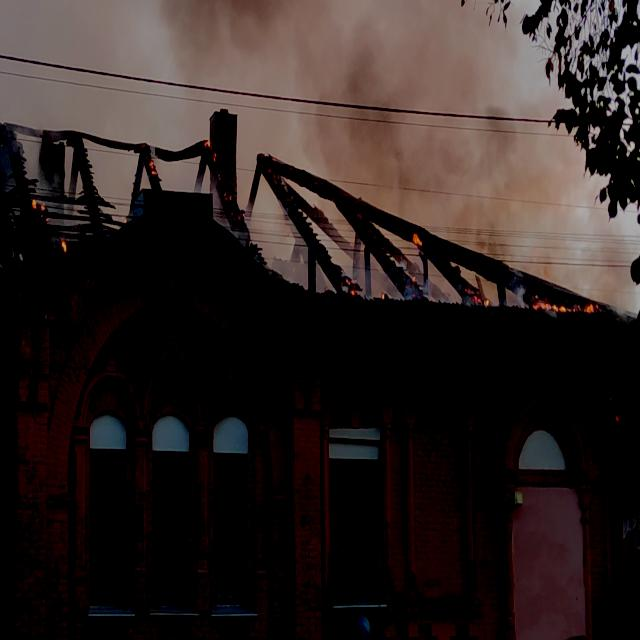fire: (522, 283, 604, 333), (28, 196, 70, 261), (201, 131, 232, 206), (402, 219, 437, 267)
smoke: (318, 36, 430, 185)
